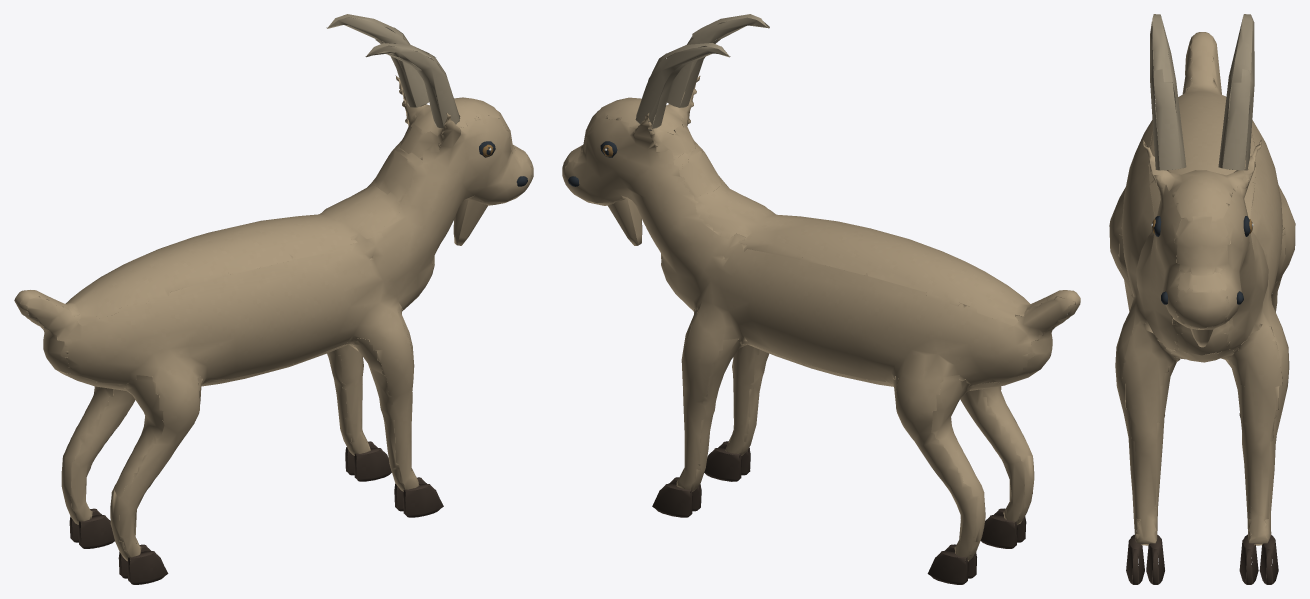
The model's file is goat.glb.
3 renders of one model, left to right at view 1: azimuth 30°, elevation 25°; view 2: azimuth 150°, elevation 25°; view 3: azimuth 270°, elevation 25°, orthographic. The views are drawn at different scales.
Visible parts, largest first — view 1: Cloven tapered hoof; view 2: Cloven tapered hoof; view 3: Cloven tapered hoof.
Boxes of the visible parts, left/top/right/bottom form: Cloven tapered hoof: left=14, top=14, right=533, bottom=584; Cloven tapered hoof: left=562, top=14, right=1080, bottom=584; Cloven tapered hoof: left=1109, top=14, right=1295, bottom=584.
Size of the model in its own units: 1.19 by 1.04 by 0.3229.
6 materials, 6 textured.
